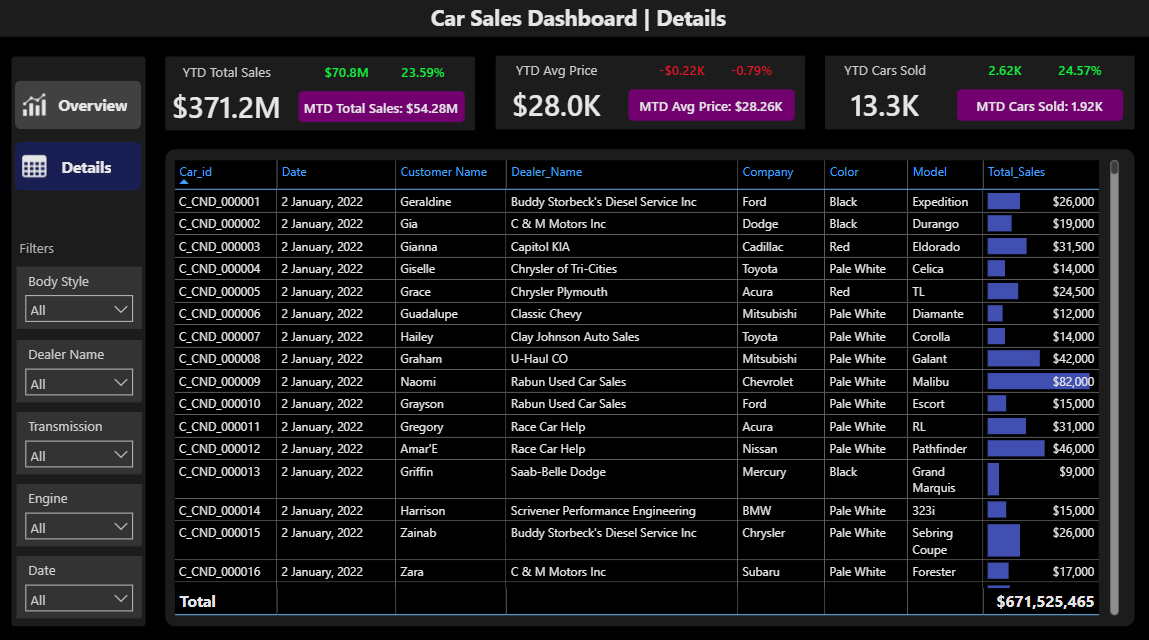

What the dashboard file says about the page in this screenshot:
{"tool":"powerbi","page":{"name":"Details","canvas":[1280,720],"ordinal":1},"visuals":[{"type":"cardVisual","title":"YTD Total Sales","fields":{"Data":["car_data.YTD_Total_sales"]},"box":[173.4,71.6,163.8,74],"z":0},{"type":"cardVisual","fields":{"Data":["car_data.Sales_Diff"]},"box":[349.9,60.4,77.9,41.4],"z":1000},{"type":"cardVisual","fields":{"Data":["car_data.YoY_Total_Sales"]},"box":[434.2,60.4,77.9,41.4],"z":2000},{"type":"cardVisual","fields":{"Data":["car_data.MTD_KPI"]},"box":[335.6,103.4,184.5,35],"z":3000},{"type":"cardVisual","title":"YTD Avg Price","fields":{"Data":["car_data.YTD_Avg_Price"]},"box":[539.6,70,163.8,74],"z":4000},{"type":"cardVisual","fields":{"Data":["car_data.Avg_Diff"]},"box":[716.2,58.9,89,41.4],"z":5000},{"type":"cardVisual","fields":{"Data":["car_data.YoY_Avg_Growth"]},"box":[800.5,58.9,77.9,41.4],"z":6000},{"type":"cardVisual","fields":{"Data":["car_data.MTD_Avg_KPI"]},"box":[701.9,101.8,184.5,35],"z":7000},{"type":"cardVisual","title":"YTD Cars Sold","fields":{"Data":["car_data.YTD_Cars_Sold"]},"box":[904.4,70,163.8,74],"z":8000},{"type":"cardVisual","fields":{"Data":["car_data.Cars_Sold_Diff"]},"box":[1081,58.8,77.9,41.4],"z":9000},{"type":"cardVisual","fields":{"Data":["car_data.YoY_Cars_Sold_Growth"]},"box":[1165.3,58.8,77.9,41.4],"z":10000},{"type":"cardVisual","fields":{"Data":["car_data.MTD_Cars_Sold_KPI"]},"box":[1066.7,101.8,184.5,35],"z":11000},{"type":"textbox","box":[413.4,0,464.9,48.5],"z":12000},{"type":"slicer","fields":{"Values":["car_data.Body Style"]},"box":[21.2,298.3,139.3,69.7],"z":13000},{"type":"slicer","fields":{"Values":["car_data.Dealer_Name"]},"box":[21.2,380.1,139.3,69.7],"z":14000},{"type":"slicer","fields":{"Values":["car_data.Transmission"]},"box":[21.2,460.3,139.3,69.7],"z":15000},{"type":"slicer","fields":{"Values":["car_data.Engine"]},"box":[21.2,540.6,139.3,69.7],"z":16000},{"type":"slicer","fields":{"Values":["calender_table.Year","calender_table.Month"]},"box":[21.2,620.8,139.3,69.7],"z":17000},{"type":"textbox","box":[20.7,260.9,70,36.6],"z":18000},{"type":"tableEx","fields":{"Values":["car_data.Car_id","car_data.Date","car_data.Customer Name","car_data.Dealer_Name","car_data.Company","car_data.Color","car_data.Model","car_data.Total_Sales"]},"box":[192.5,175,1059.3,515.4],"z":19000},{"type":"actionButton","box":[20.7,92.3,140,54.1],"z":20000},{"type":"actionButton","box":[20.7,160.7,140,54.1],"z":21000}]}

Visuals, with their boxes on the page's 1280x720 design canvas (x1, y1, x2, y2). These are canvas units, not pixel positions in the 1149x640 screenshot, which may show the page scaled, cropped or inside an application window:
"YTD Total Sales" cardVisual: detection(173, 72, 337, 146)
cardVisual - car_data.Sales_Diff: detection(350, 60, 428, 102)
cardVisual - car_data.YoY_Total_Sales: detection(434, 60, 512, 102)
cardVisual - car_data.MTD_KPI: detection(336, 103, 520, 138)
"YTD Avg Price" cardVisual: detection(540, 70, 703, 144)
cardVisual - car_data.Avg_Diff: detection(716, 59, 805, 100)
cardVisual - car_data.YoY_Avg_Growth: detection(800, 59, 878, 100)
cardVisual - car_data.MTD_Avg_KPI: detection(702, 102, 886, 137)
"YTD Cars Sold" cardVisual: detection(904, 70, 1068, 144)
cardVisual - car_data.Cars_Sold_Diff: detection(1081, 59, 1159, 100)
cardVisual - car_data.YoY_Cars_Sold_Growth: detection(1165, 59, 1243, 100)
cardVisual - car_data.MTD_Cars_Sold_KPI: detection(1067, 102, 1251, 137)
textbox: detection(413, 0, 878, 48)
slicer - car_data.Body Style: detection(21, 298, 160, 368)
slicer - car_data.Dealer_Name: detection(21, 380, 160, 450)
slicer - car_data.Transmission: detection(21, 460, 160, 530)
slicer - car_data.Engine: detection(21, 541, 160, 610)
slicer - calender_table.Year x calender_table.Month: detection(21, 621, 160, 690)
textbox: detection(21, 261, 91, 298)
tableEx - car_data.Car_id x car_data.Date: detection(192, 175, 1252, 690)
actionButton: detection(21, 92, 161, 146)
actionButton: detection(21, 161, 161, 215)
